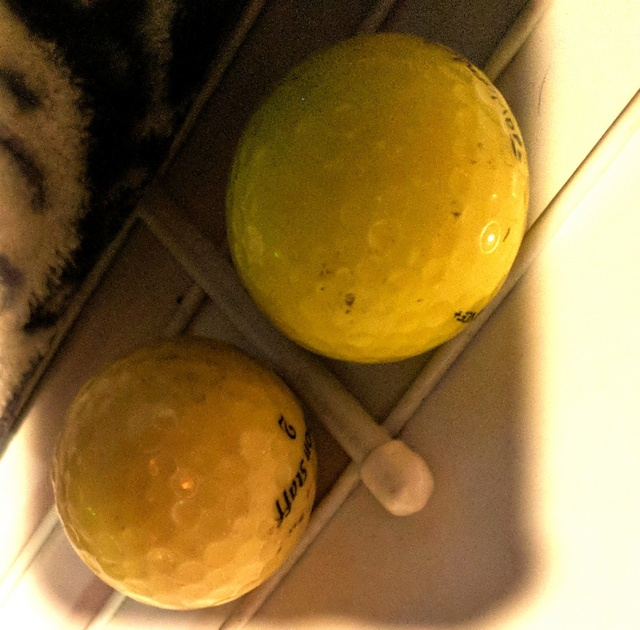ball: (224, 30, 535, 365)
